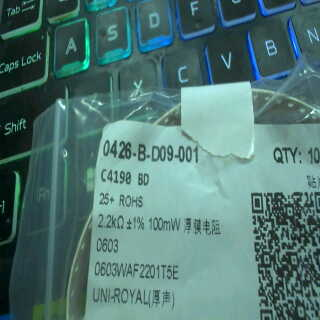2.2kR: (94, 209, 127, 234)
